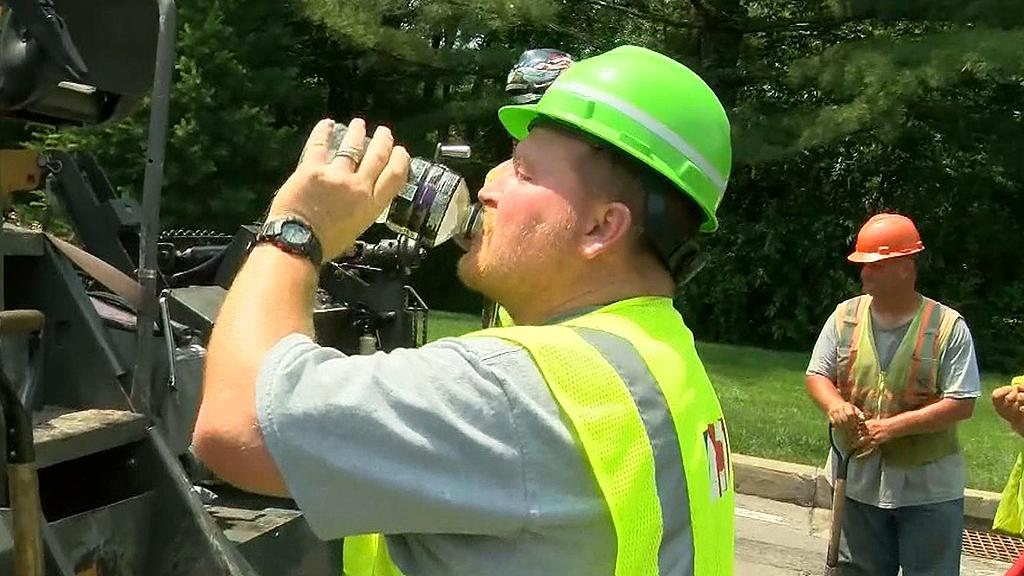helmet: (495, 40, 731, 235), (846, 212, 925, 266)
